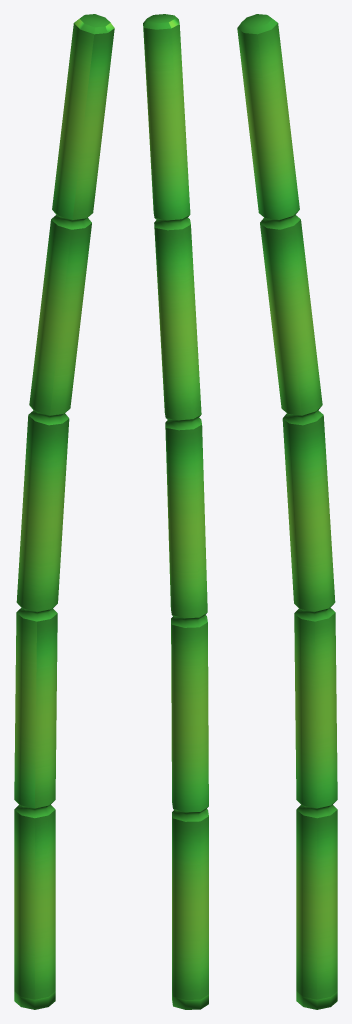
The model's file is bamboo_02.fbx.
3 renders of one model, left to right at view 1: azimuth 90°, elevation 25°; view 2: azimuth 210°, elevation 25°; view 3: azimuth 270°, elevation 25°, orthographic.
Visible parts, largest first — view 1: Cube.037; view 2: Cube.037; view 3: Cube.037.
Part boxes in pixels (x1,y1,x2,y2): Cube.037: [14, 14, 114, 1009]; Cube.037: [143, 14, 208, 1009]; Cube.037: [237, 14, 337, 1009].
Size of the model in its own units: 23.7 by 622 by 57.67.
